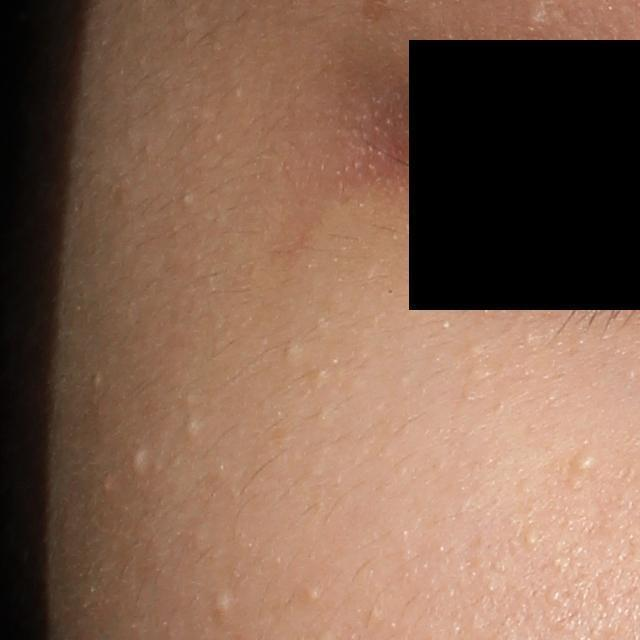other: (129, 446, 153, 473), (570, 449, 597, 472), (521, 525, 541, 548)
